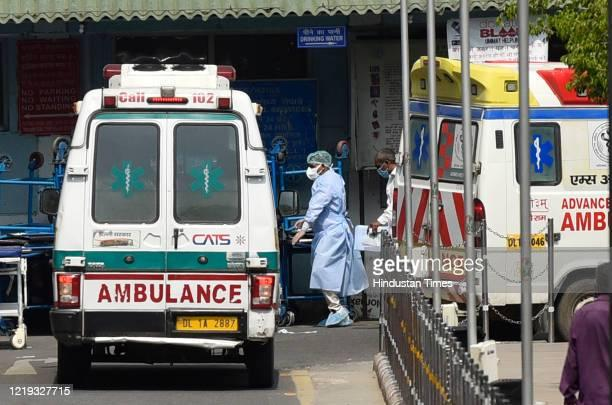Emergency-Vehicles: (34, 29, 324, 389), (385, 41, 612, 349)
